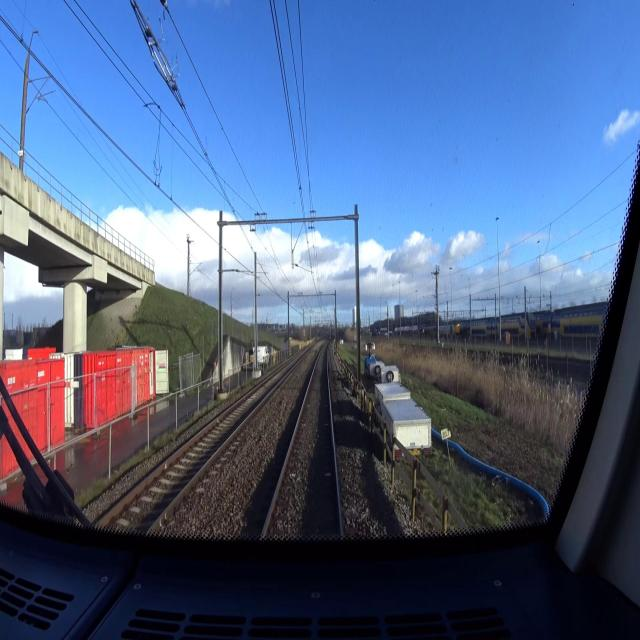rail-track: (105, 359, 296, 532), (265, 345, 339, 539)
